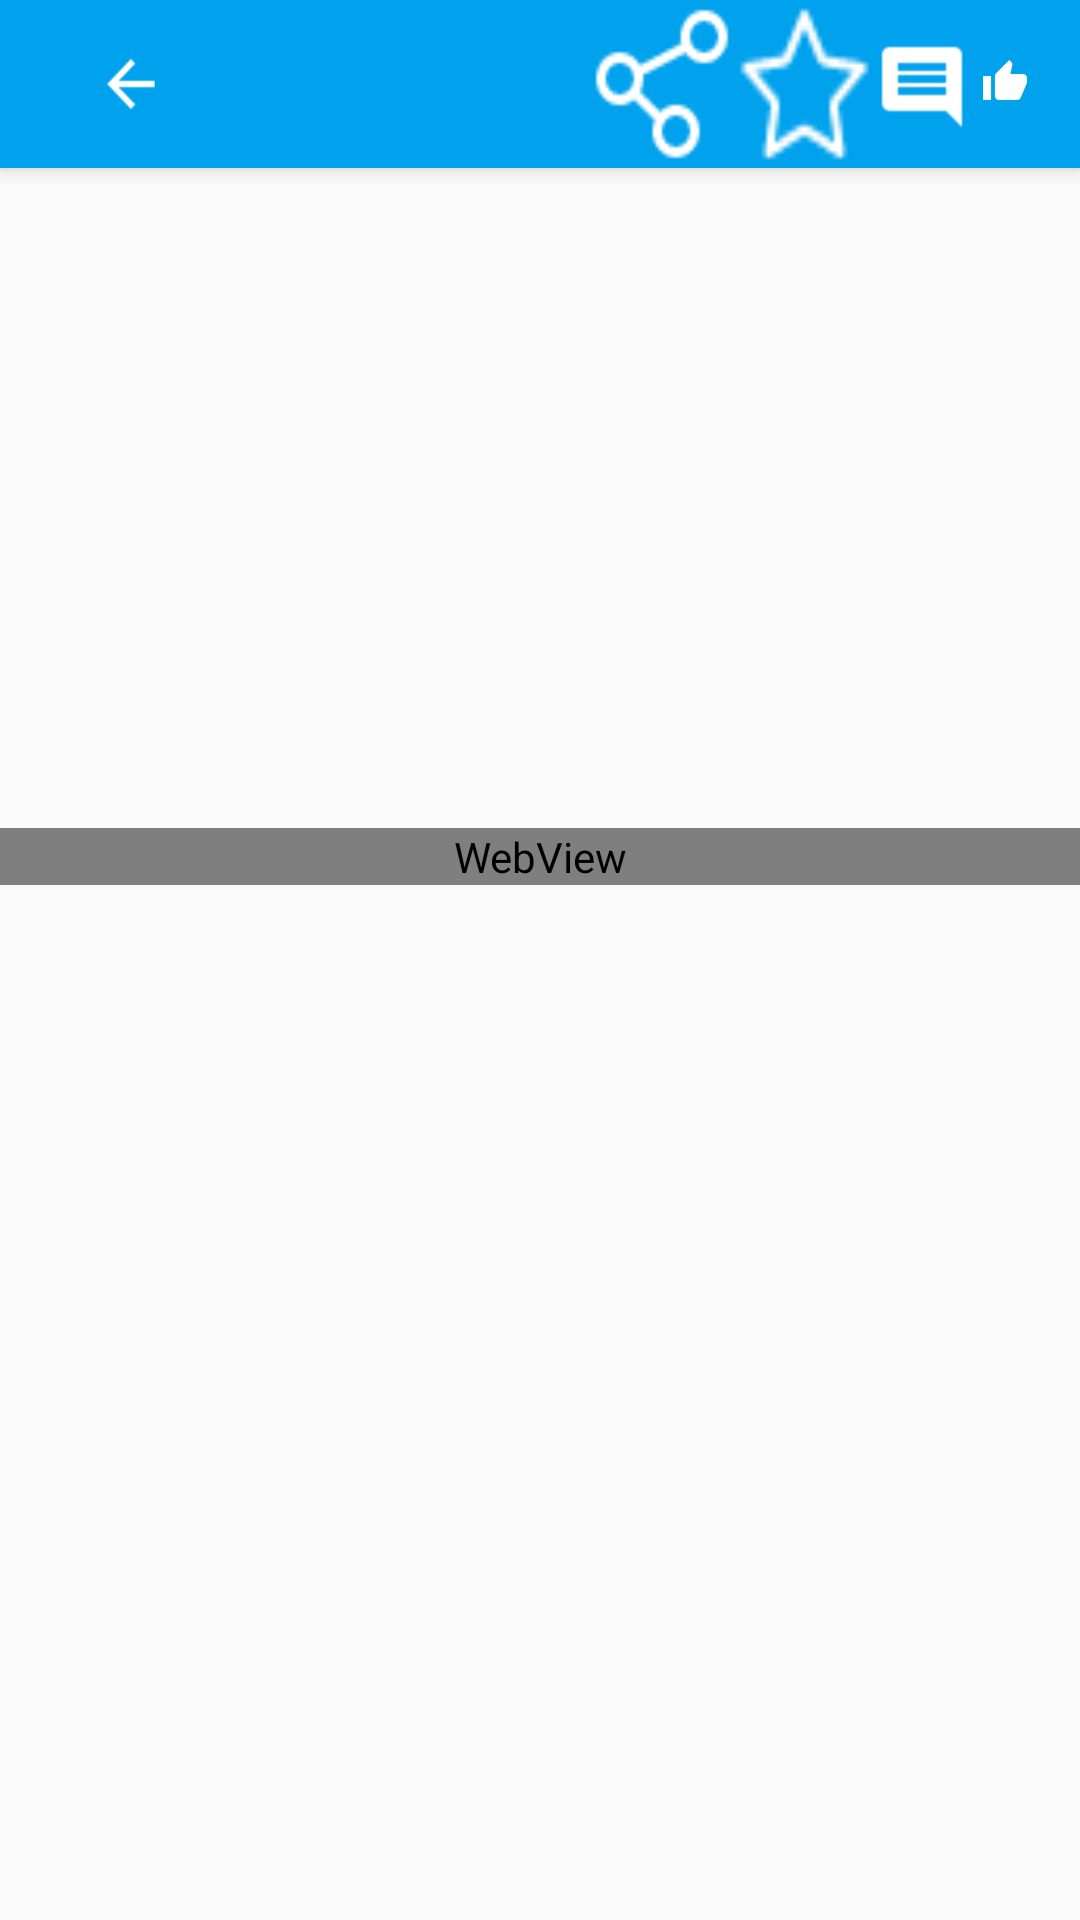

Screen size 1080px x 1920px. Icon name, then its box in pixels as (x1, y1, x2, y2):
back: (107, 59, 155, 109)
collections: (740, 8, 869, 160)
share: (595, 9, 729, 159)
